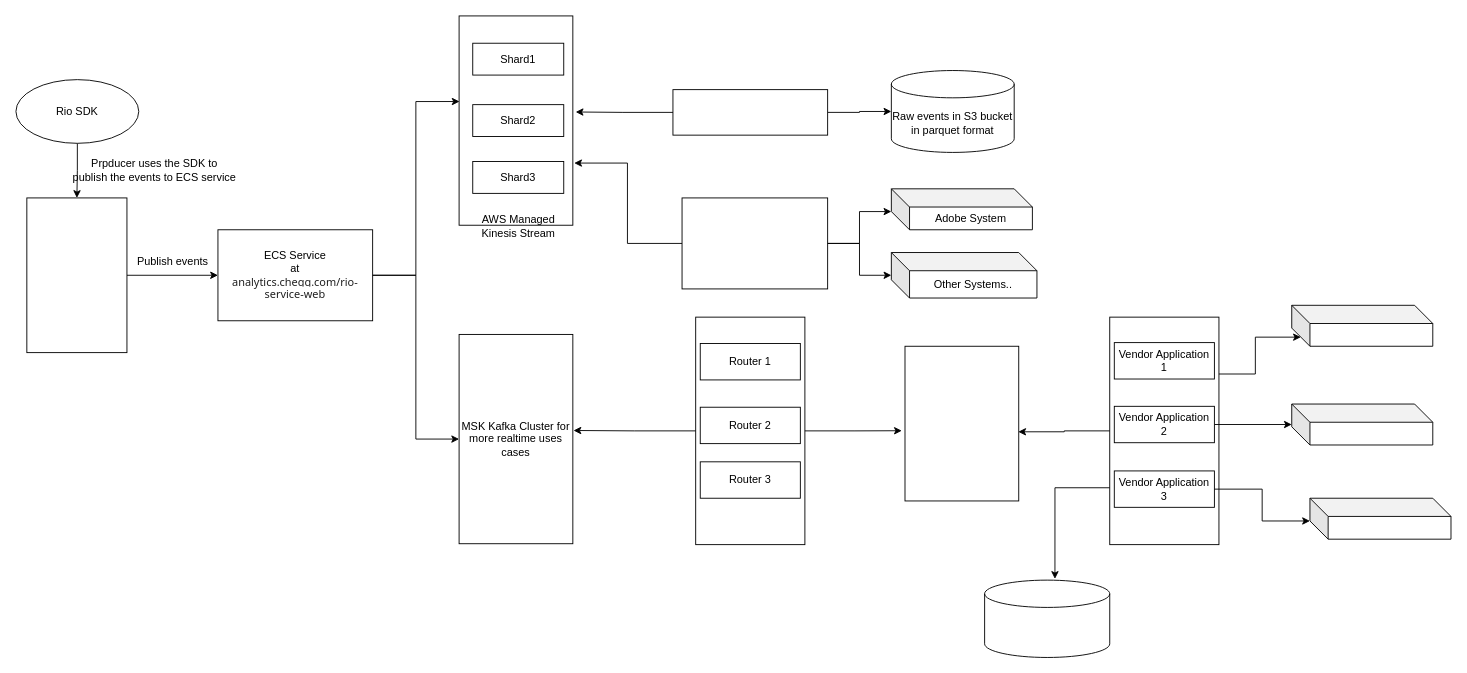
The diagram is 1467 pixels wide and 673 high, and some of its shapes have lost their labels. The box of each missing label's shape, as (x1, y1, x2, y2) in pixels:
Kinesis Firehose/ ETL: (672, 89, 828, 135)
MSK Kafka Cluster for vendor specific use cases: (904, 345, 1019, 501)
Multiple Apache Flink / KDA applications/ Consume KCL: (681, 197, 828, 289)
Other data sources for data enrichements: (984, 579, 1110, 657)
Producer Applications 1 2 3 . . .: (26, 197, 127, 353)
Vendor 1: (1291, 304, 1433, 346)
Vendor 2: (1291, 403, 1433, 445)
Vendor 3: (1309, 497, 1451, 539)
